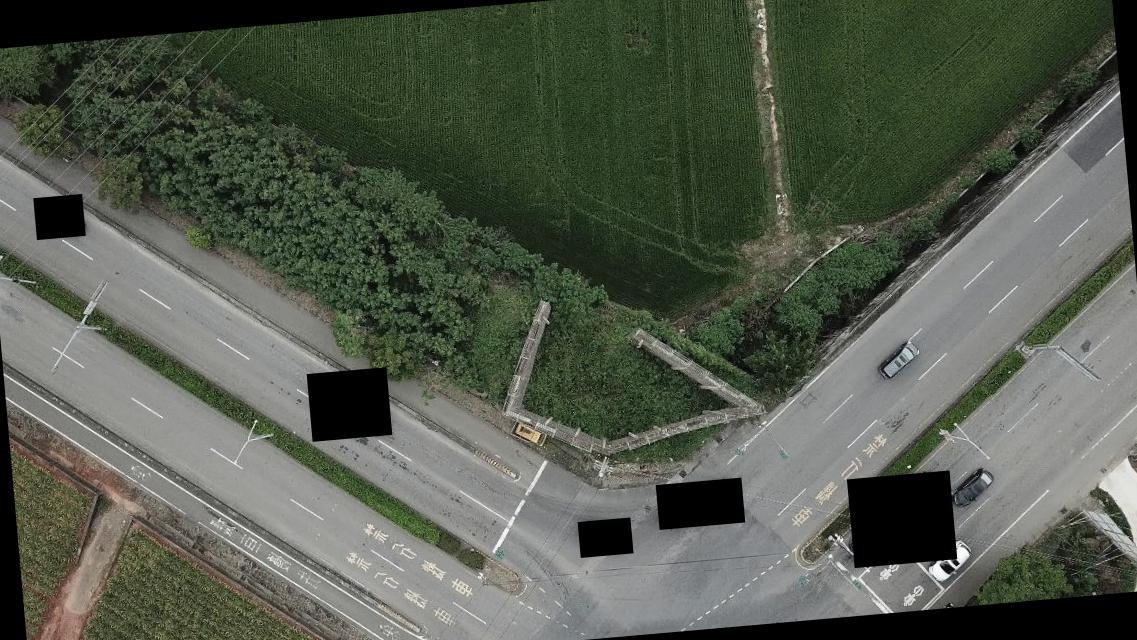vehicle: (876, 338, 923, 380), (928, 540, 973, 582), (950, 471, 994, 511), (512, 421, 548, 448)
